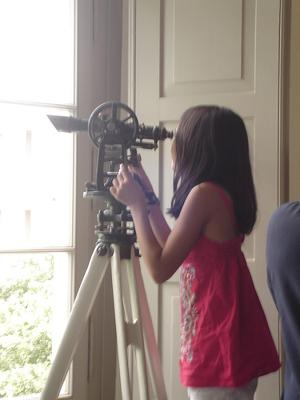person: (110, 102, 279, 400)
